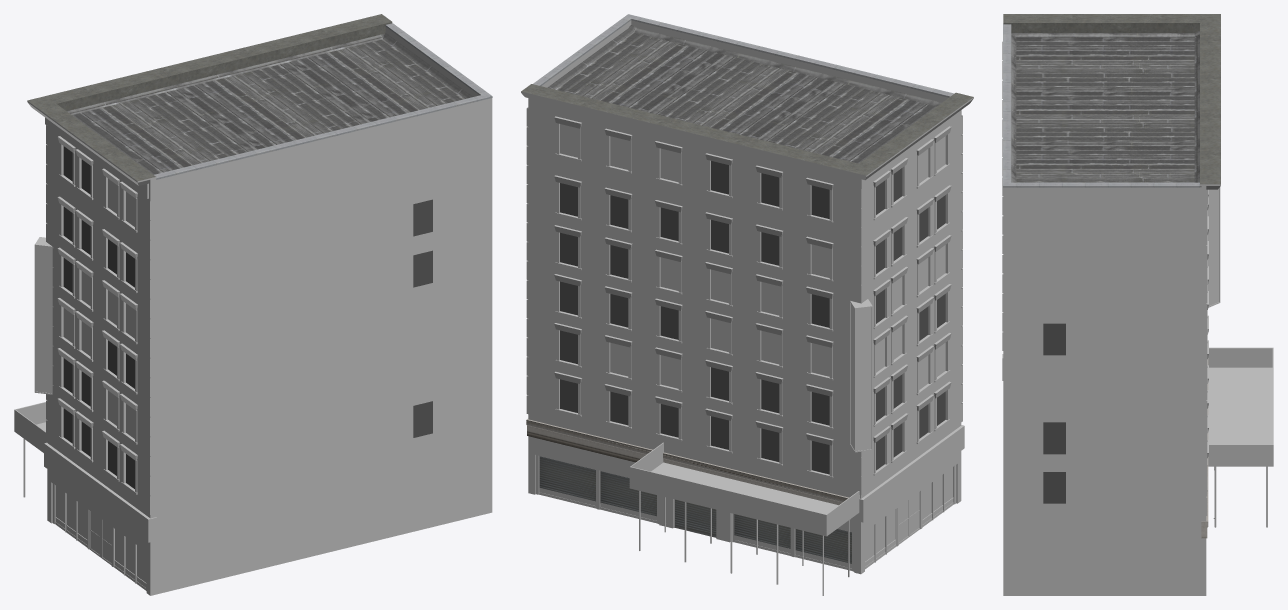
Rendered from mcp_building_27_LOD_1.FBX.
3 renders of one model, left to right at view 1: azimuth 30°, elevation 25°; view 2: azimuth 150°, elevation 25°; view 3: azimuth 270°, elevation 25°, orthographic. The views are drawn at different scales.
Parts seen in each view (by area): view 1: mcp_building_27_walls, mcp_building_27, mcp_building_27_cornice, mcp_building_27_metal; view 2: mcp_building_27_walls, mcp_building_27, mcp_building_27_cornice, mcp_building_27_props_04, mcp_building_27_metal; view 3: mcp_building_27_walls, mcp_building_27, mcp_building_27_cornice, mcp_building_27_metal.
Part boxes in pixels (x1,y1,x2,y2): mcp_building_27_walls: (46,27,492,595); mcp_building_27: (14,146,432,590); mcp_building_27_cornice: (27,14,392,198); mcp_building_27_metal: (154,23,492,179); mcp_building_27_walls: (526,20,962,574); mcp_building_27: (535,124,964,595); mcp_building_27_cornice: (521,84,973,189); mcp_building_27_props_04: (539,456,851,563); mcp_building_27_metal: (533,14,954,97); mcp_building_27_walls: (1002,31,1208,595); mcp_building_27: (1002,187,1273,527); mcp_building_27_cornice: (1003,14,1220,204); mcp_building_27_metal: (1003,24,1199,187).
Size of the model in its own units: 2620 by 2950 by 1760.
